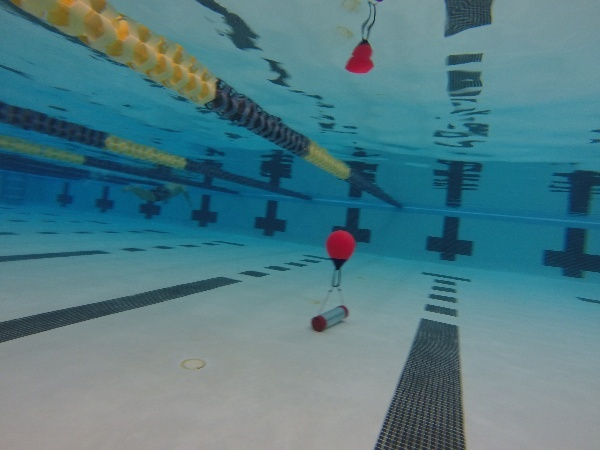buoy_red: (324, 228, 356, 274)
